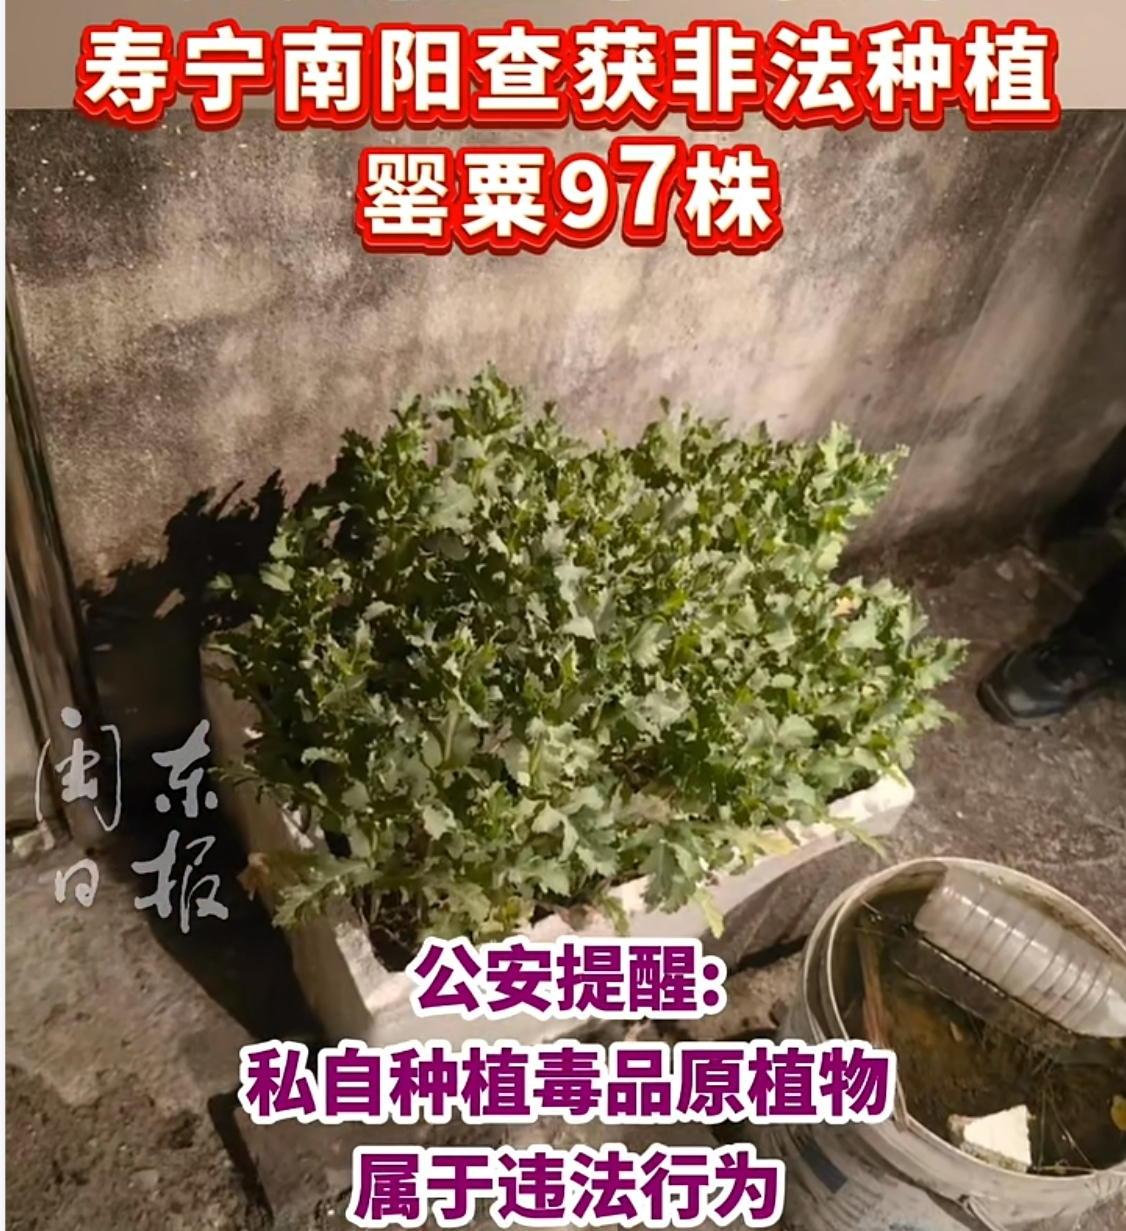Poppy: (227, 364, 961, 911)
